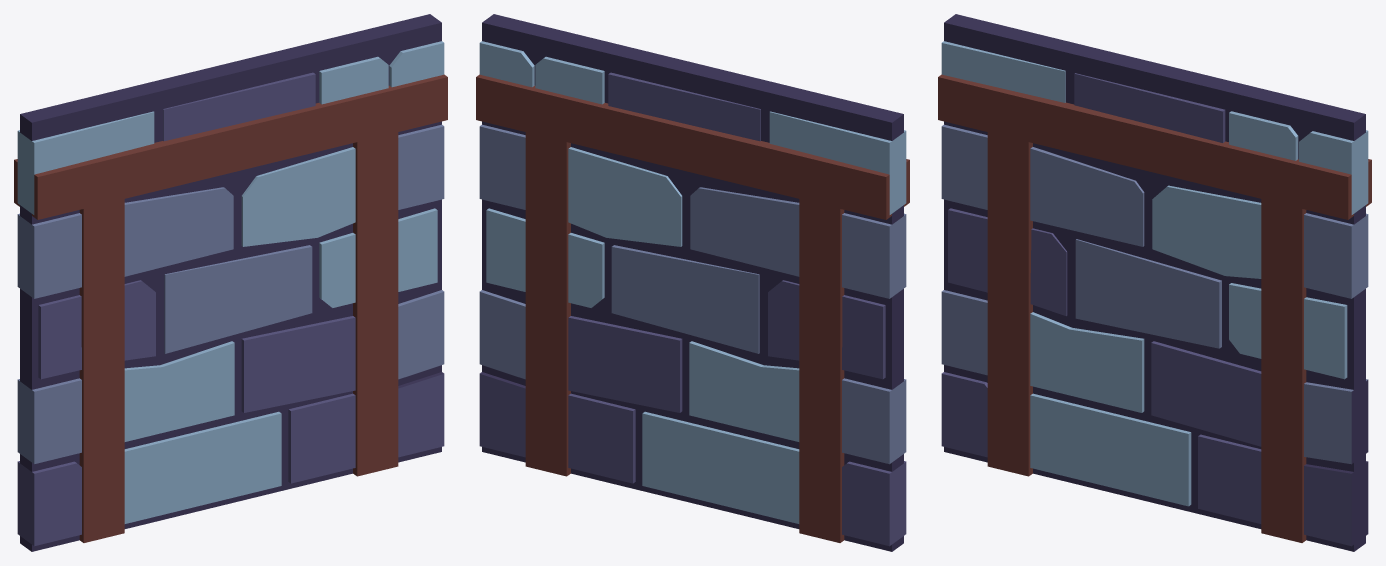
File: Modular Wall 09 MK2.fbx
3 renders of one model, left to right at view 1: azimuth 30°, elevation 25°; view 2: azimuth 150°, elevation 25°; view 3: azimuth 330°, elevation 25°, orthographic.
Visible parts, largest first — view 1: Modular Wall 09 MK2; view 2: Modular Wall 09 MK2; view 3: Modular Wall 09 MK2.
Part boxes in pixels (box(x1,y1,x2,y2)): Modular Wall 09 MK2: box(14, 14, 447, 551); Modular Wall 09 MK2: box(476, 14, 909, 551); Modular Wall 09 MK2: box(938, 14, 1371, 551).
Size of the model in its own units: 400 by 400 by 40.
